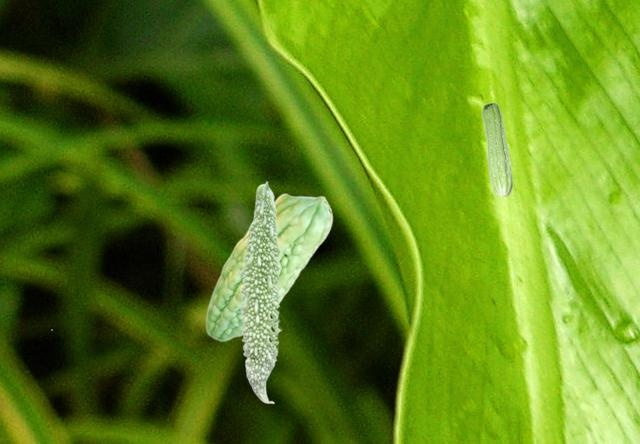ampalaya: (205, 192, 335, 342), (238, 180, 282, 404), (480, 100, 515, 197)
